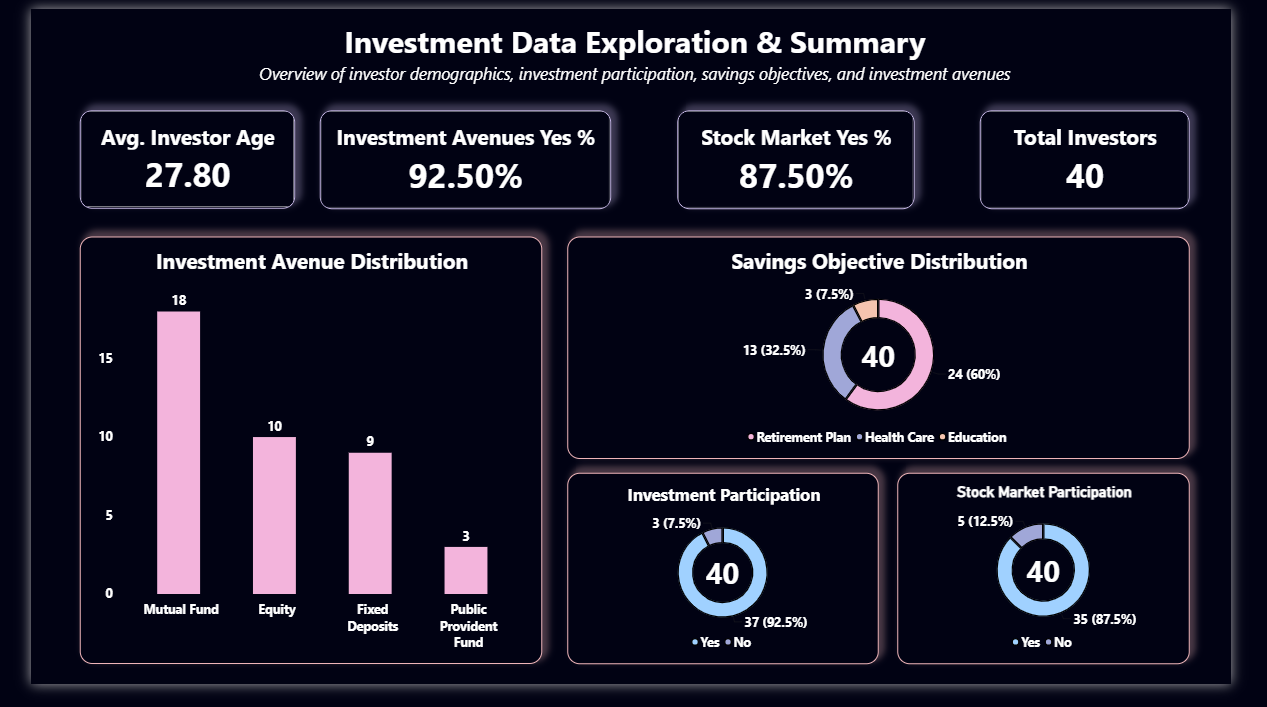

The dashboard page shown, as its layout file describes it:
{"tool":"powerbi","page":{"name":"Data Exploration and Summary","canvas":[1920,1080],"ordinal":0},"visuals":[{"type":"cardVisual","fields":{"Data":["All_Measures.Average Age"]},"box":[77.5,162.5,345,157.5],"z":0},{"type":"cardVisual","fields":{"Data":["All_Measures.Total Respondents"]},"box":[1518,162,336,158],"z":1000},{"type":"cardVisual","fields":{"Data":["All_Measures.Stock Market Yes %"]},"box":[1033.3,162,380,158],"z":2000},{"type":"cardVisual","fields":{"Data":["All_Measures.Investment Avenues Yes %"]},"box":[462.7,162,466,158],"z":3000},{"type":"textbox","box":[78,18,1776,66],"z":4000},{"type":"clusteredColumnChart","title":"Investment Avenue Distribution","fields":{"Category":["Investments.Avenue"],"Y":["CountNonNull(Investments.Avenue)"]},"box":[78,364,740,684],"z":5000},{"type":"donutChart","title":"Savings Objective Distribution","fields":{"Category":["Investments.What are your savings objectives?"],"Y":["CountNonNull(Investments.What are your savings objectives?)"]},"box":[858,364,996,356],"z":6000},{"type":"donutChart","title":"Investment Participation","fields":{"Y":["All_Measures.Investment Participation Count"],"Category":["Investments.Investment_Avenues"]},"box":[858,742,498,306],"z":7000},{"type":"donutChart","title":"Stock Market Participation","fields":{"Category":["Investments.Stock_Marktet"],"Y":["CountNonNull(Investments.Stock_Marktet)"]},"box":[1386,742,468,306],"z":8000},{"type":"textbox","box":[78,84,1776,41.3],"z":8001}]}

Visuals, with their boxes in screenshot pixels (x1, y1, x2, y2), scaled from the page's 1920x1080 canvas onto the 1267x707 screenshot:
cardVisual - All_Measures.Average Age: bbox=[51, 106, 279, 209]
cardVisual - All_Measures.Total Respondents: bbox=[1002, 106, 1223, 209]
cardVisual - All_Measures.Stock Market Yes %: bbox=[682, 106, 933, 209]
cardVisual - All_Measures.Investment Avenues Yes %: bbox=[305, 106, 613, 209]
textbox: bbox=[51, 12, 1223, 55]
"Investment Avenue Distribution" clusteredColumnChart: bbox=[51, 238, 540, 686]
"Savings Objective Distribution" donutChart: bbox=[566, 238, 1223, 471]
"Investment Participation" donutChart: bbox=[566, 486, 895, 686]
"Stock Market Participation" donutChart: bbox=[915, 486, 1223, 686]
textbox: bbox=[51, 55, 1223, 82]
